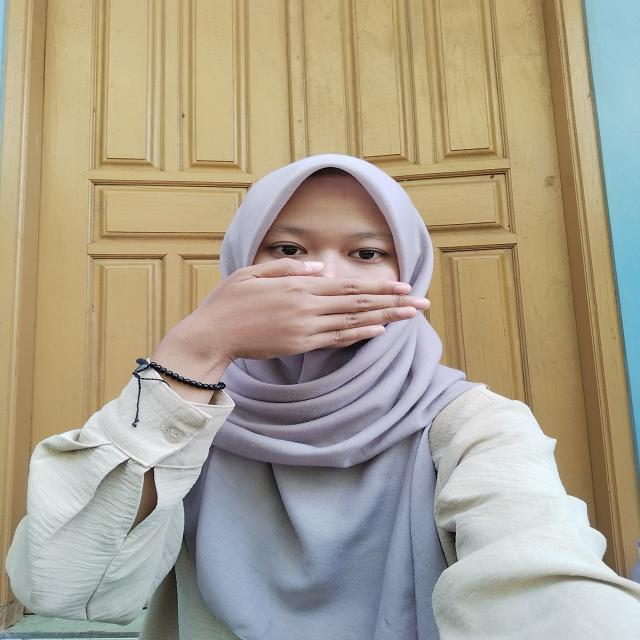buruk: (121, 249, 458, 361)
